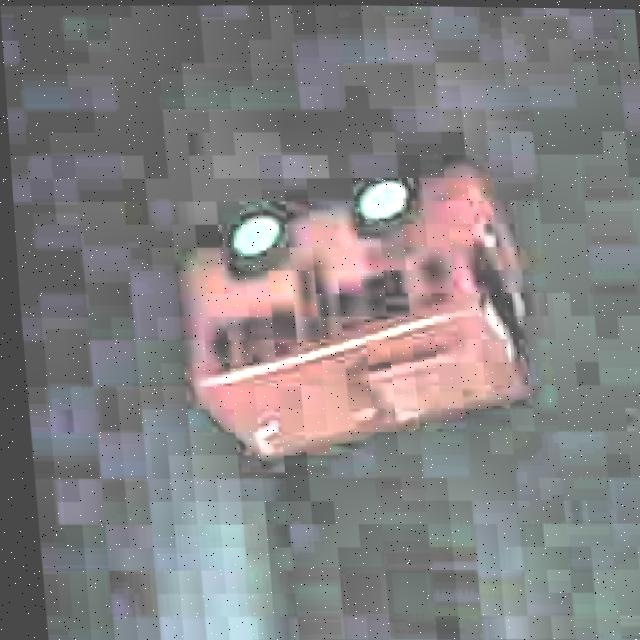bus: (160, 150, 549, 478)
